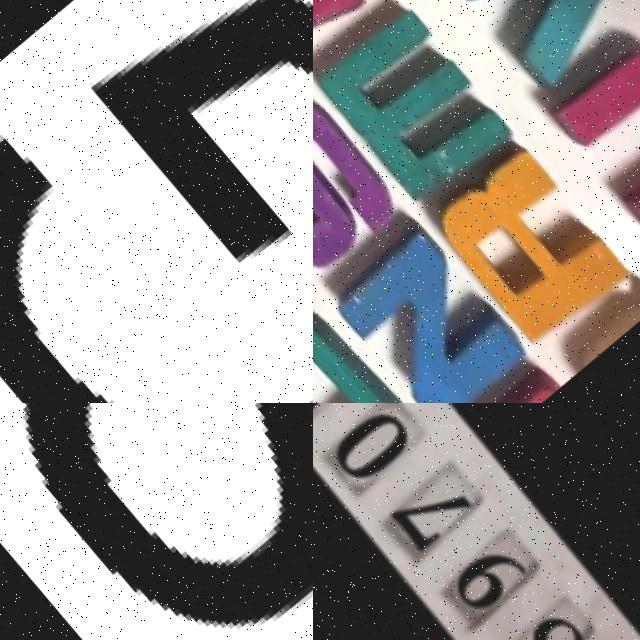0: (313, 403, 424, 503)
5: (489, 604, 593, 640)
7: (371, 463, 487, 570)
9: (432, 536, 538, 634)
D: (313, 301, 408, 403)
G: (0, 0, 313, 403)
M: (313, 2, 523, 226)
N: (317, 217, 531, 403)
R: (423, 147, 625, 352)
S: (0, 403, 313, 640), (313, 72, 404, 282)
U: (538, 27, 640, 251)
V: (427, 0, 640, 94)
